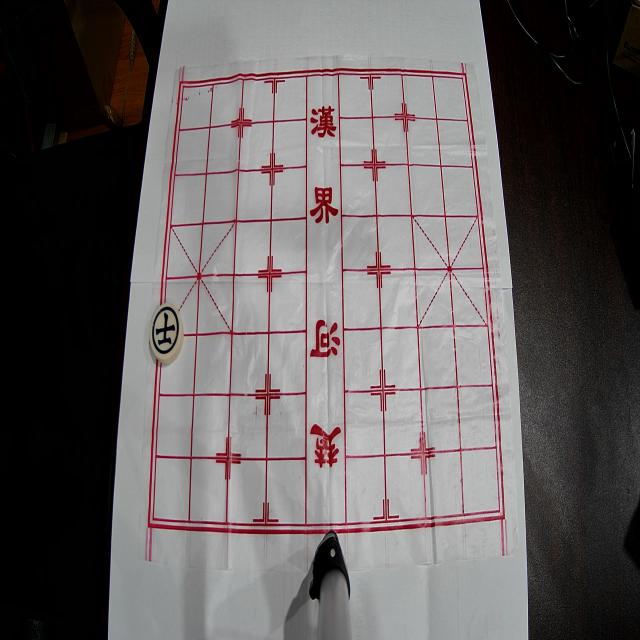black-guard: (150, 302, 184, 363)
